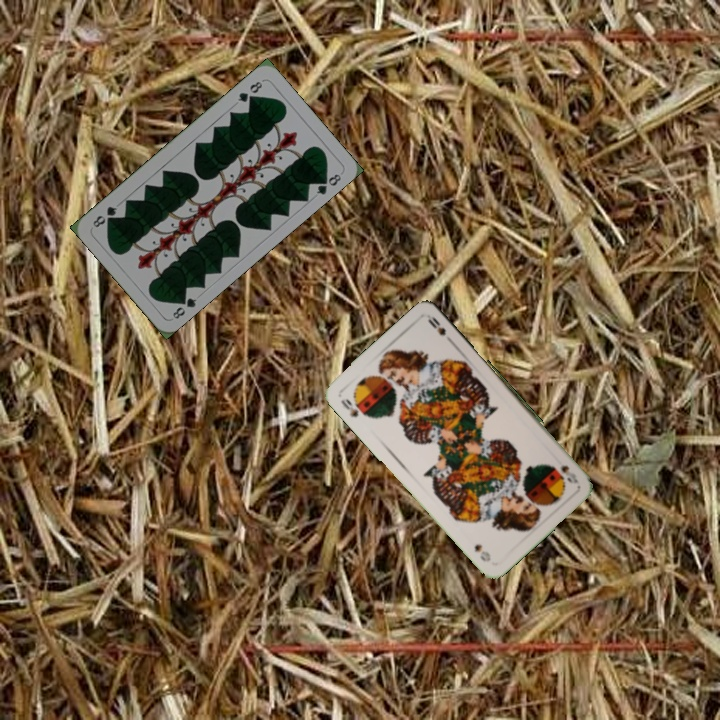G8: (168, 291, 200, 321), (234, 77, 265, 105)
SO: (337, 394, 369, 420), (557, 461, 580, 486)
